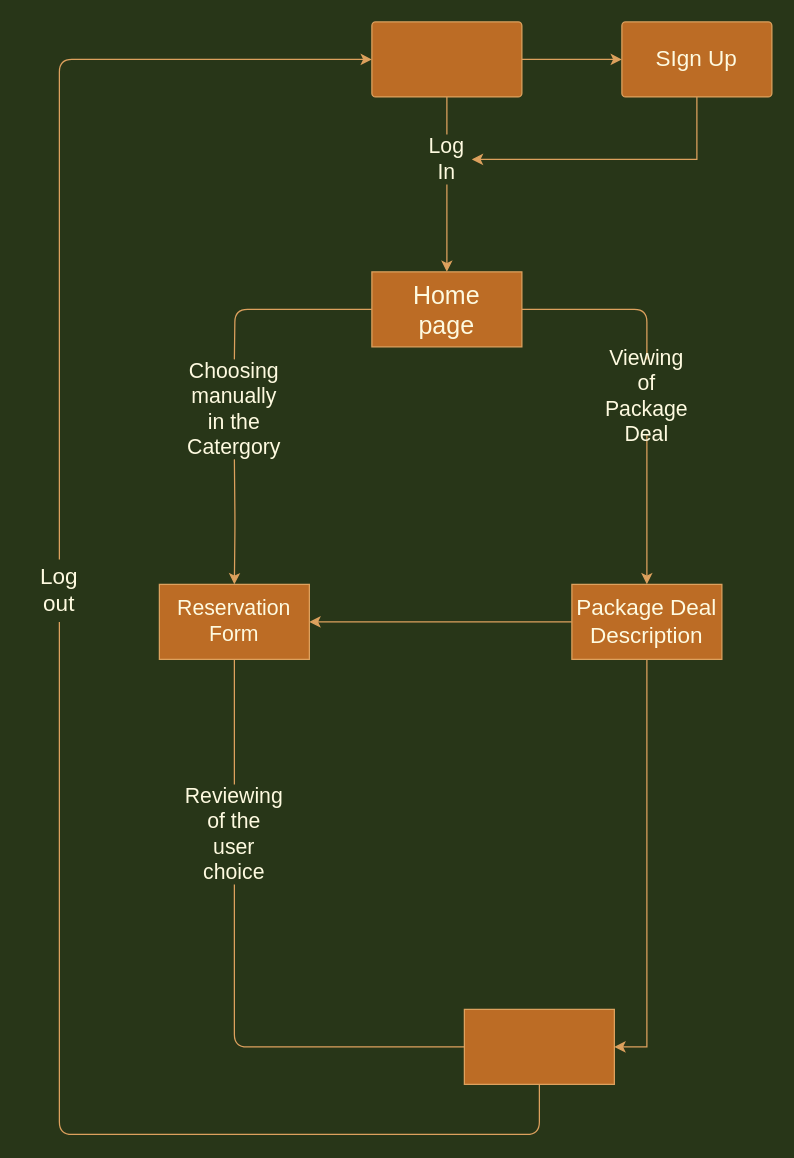
The diagram is 794 pixels wide and 1158 high, and some of its shapes have lost their labels. The shapes that lost their labels are listed below. From the top down, each one's box as (x1, y1, x2, y2) in pixels, then its label:
(371, 21, 522, 97): Member
(463, 1008, 614, 1084): Reciept
